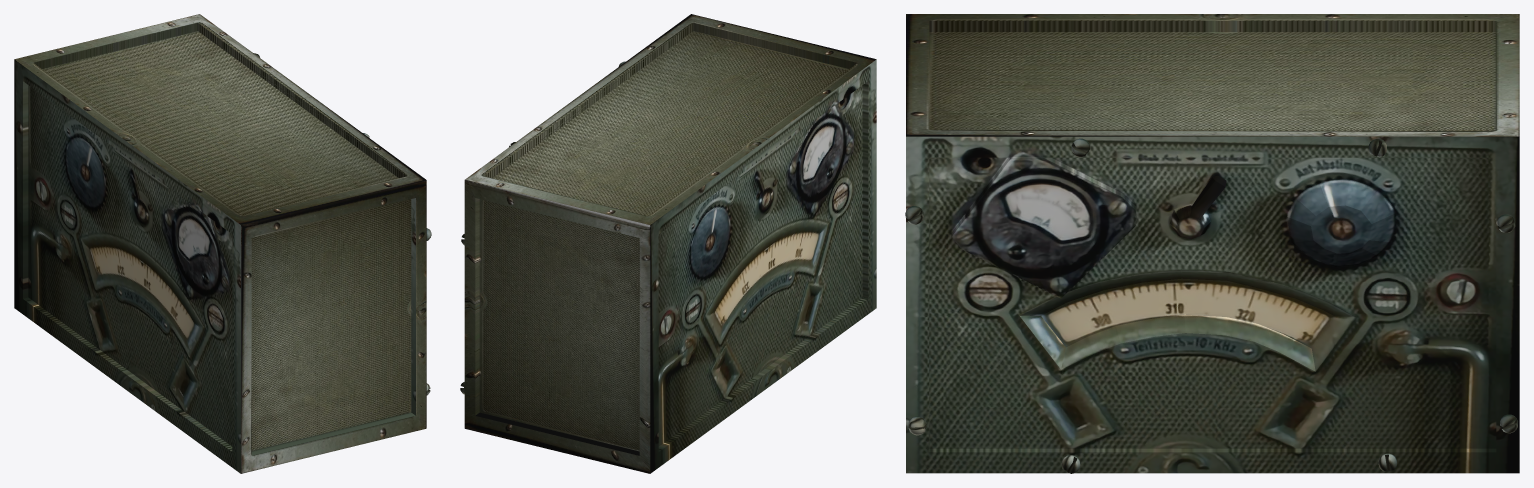
File: msh_radio.fbx
3 renders of one model, left to right at view 1: azimuth 30°, elevation 25°; view 2: azimuth 150°, elevation 25°; view 3: azimuth 270°, elevation 25°, orthographic. The views are drawn at different scales.
Parts seen in each view (by area): view 1: msh_radio; view 2: msh_radio; view 3: msh_radio.
Part boxes in pixels (left/top/right/bottom): msh_radio: left=14, top=14, right=431, bottom=473; msh_radio: left=460, top=14, right=876, bottom=473; msh_radio: left=905, top=14, right=1519, bottom=473.
Size of the model in its own units: 13.02 by 16.14 by 26.68.
Materials: 1 (1 with a texture image).
